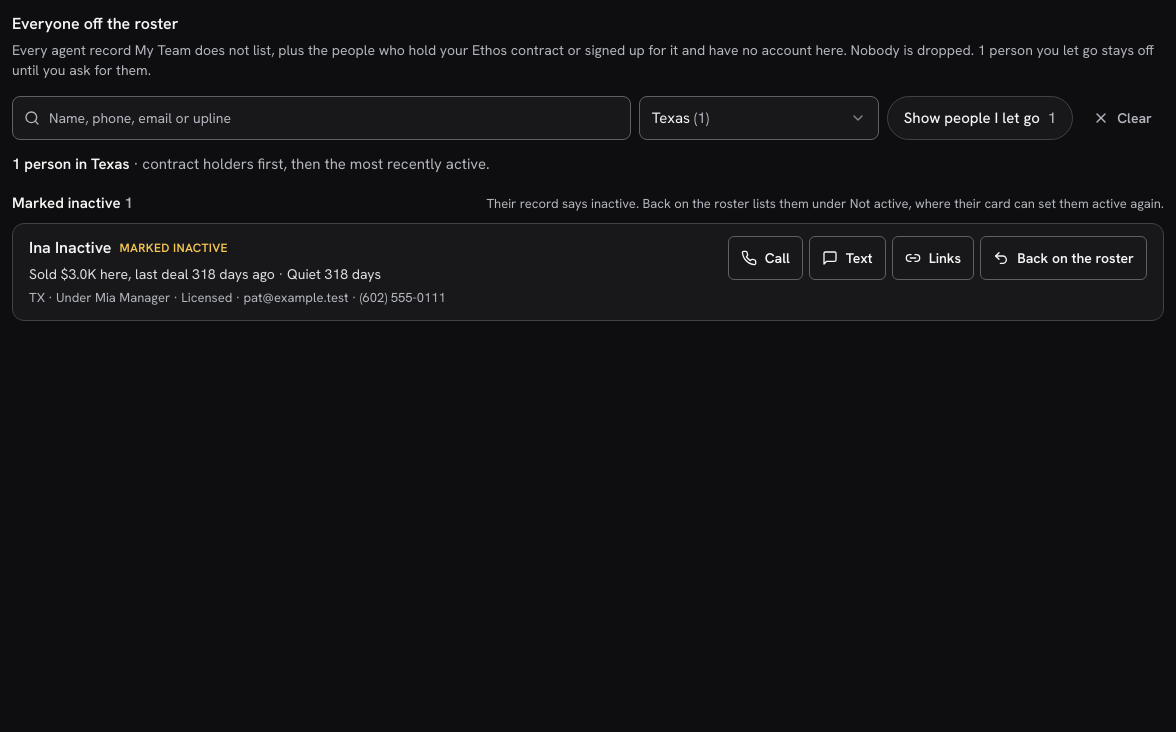
Bring back › the state filter lives in the URL and 'No state on file' is its own choice
The image size is (1176, 732).
Expected: the text "Ina Inactive" is shown, top-left (29, 236), bottom-right (112, 258)
Expected: the text "Hal Hidden" is not shown
Click the button "Clear" at (1123, 118), box top-left (1081, 96), bottom-right (1164, 140)
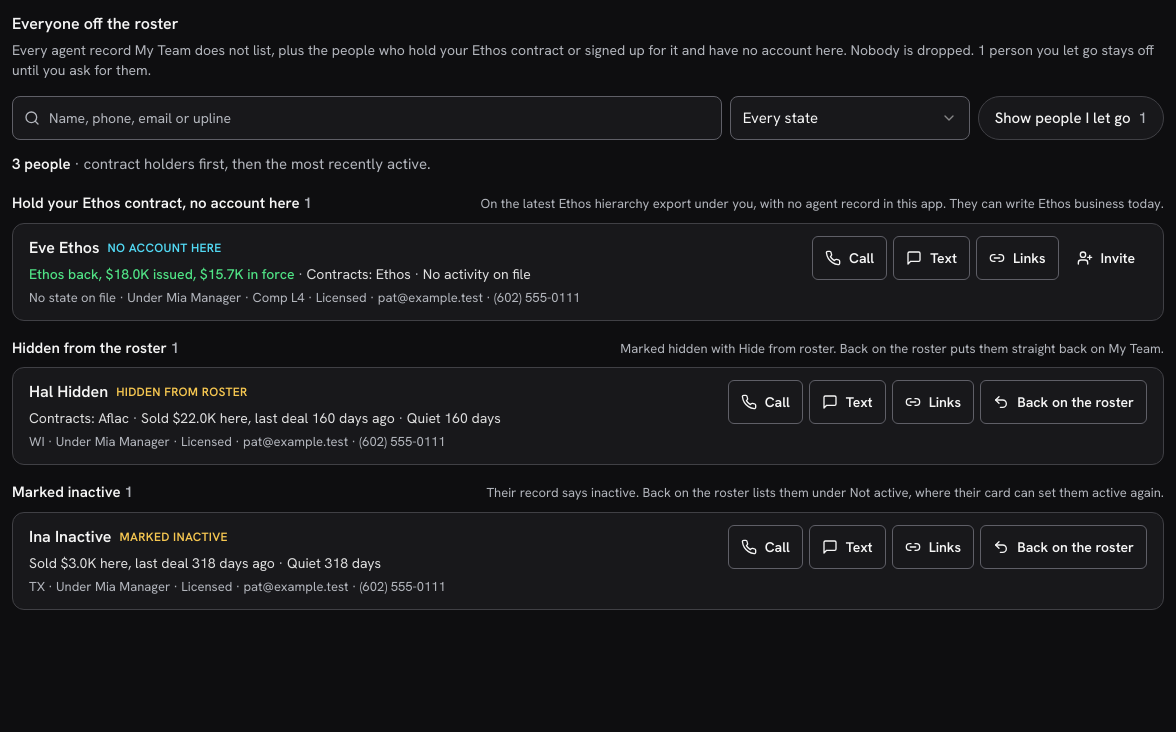
Expected: the text "Hal Hidden" is shown, top-left (29, 381), bottom-right (108, 402)
Expected: the element with test id "bring-back-caption" shows "3 people", top-left (12, 154), bottom-right (71, 174)
